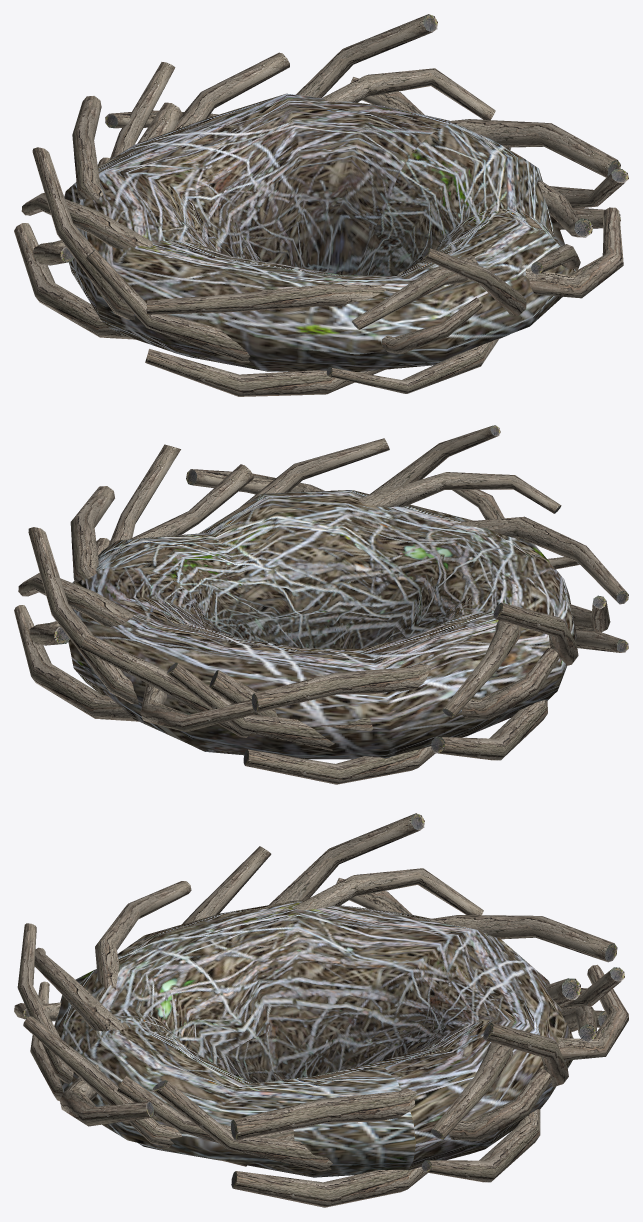
File: env_amazon_nest_01.fbx
3 renders of one model, top to bottom at view 1: azimuth 30°, elevation 25°; view 2: azimuth 150°, elevation 25°; view 3: azimuth 270°, elevation 25°, orthographic.
Visible parts, largest first — view 1: env_nest_01; view 2: env_nest_01; view 3: env_nest_01.
Boxes of the visible parts, <box> form: env_nest_01: <box>14,14,628,396</box>; env_nest_01: <box>14,425,628,784</box>; env_nest_01: <box>14,813,628,1207</box>.
Size of the model in its own units: 8.12 by 2.52 by 8.19.
Materials: 1 (1 with a texture image).
